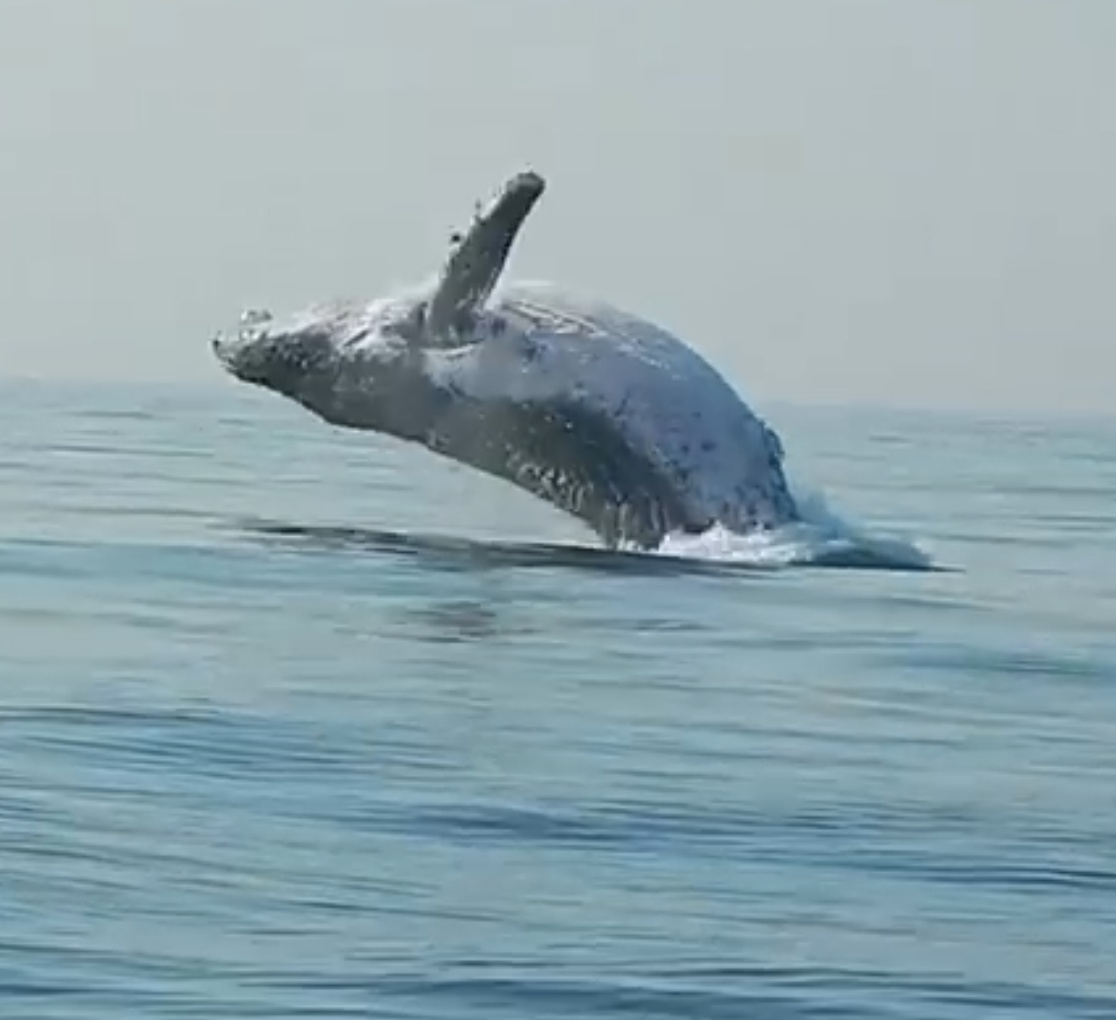humpback: (217, 273, 801, 546)
